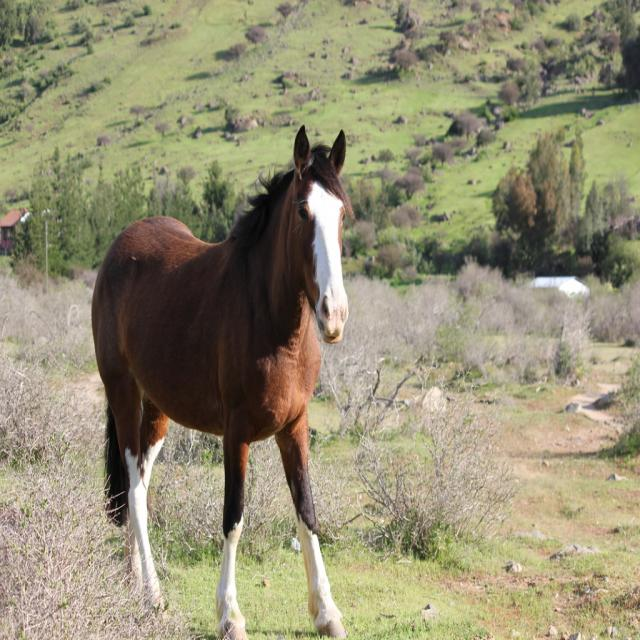Horse: (91, 124, 359, 640)
